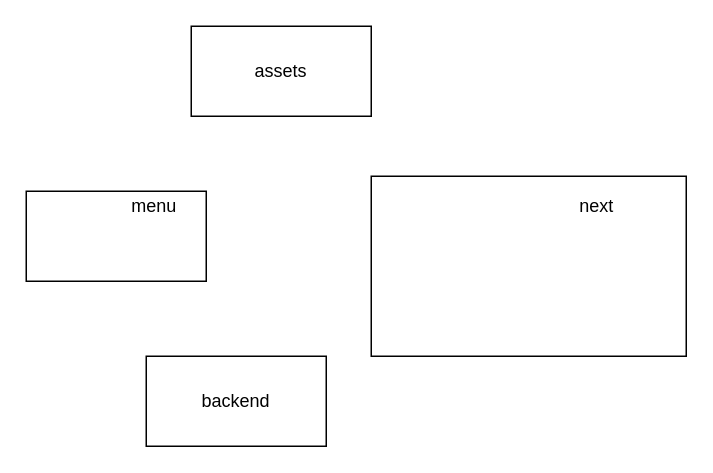
This 713x473 diagram has some shape labels left out. Here are the shapes that lost their labels. From the top down, the box of each, then its label:
(25, 190, 206, 281): Diagram
(370, 175, 686, 356): webSite
